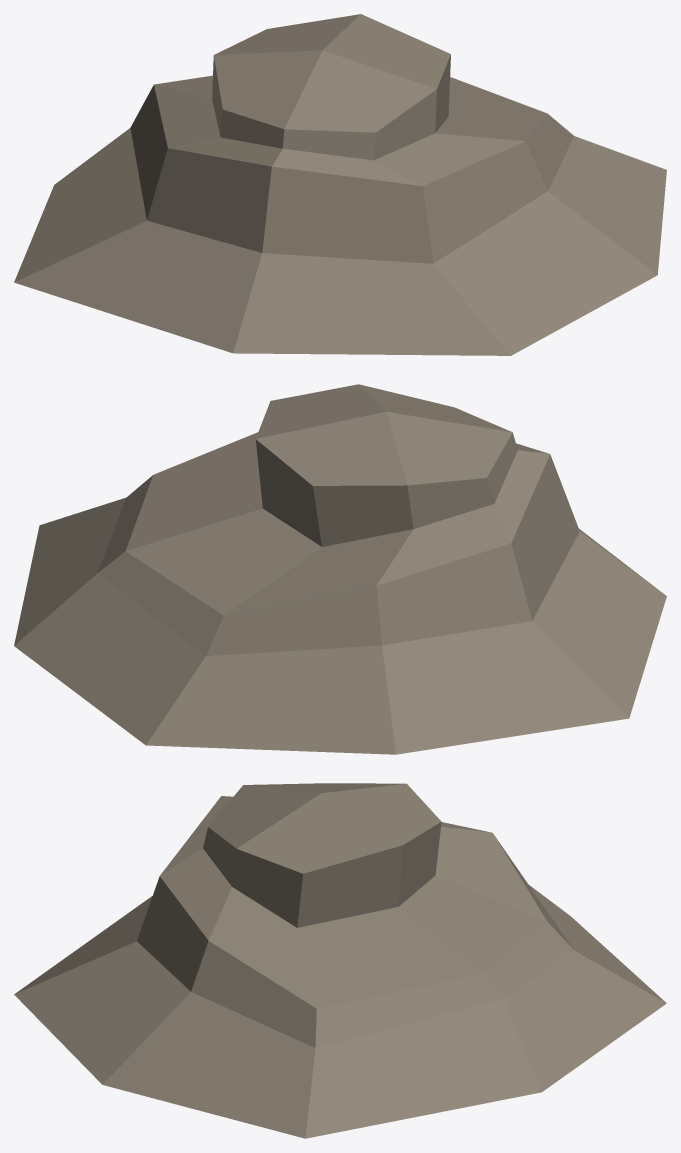
The model's file is mossStoneB-compressed.glb.
The picture shows the model from 3 angles, top to bottom: view 1: azimuth 30°, elevation 25°; view 2: azimuth 150°, elevation 25°; view 3: azimuth 270°, elevation 25°; orthographic projection. The views are drawn at different scales.
Visible parts, largest first — view 1: mossStoneB; view 2: mossStoneB; view 3: mossStoneB.
Part boxes in pixels (bbox=[...]): mossStoneB: bbox=[14, 14, 666, 355]; mossStoneB: bbox=[14, 384, 666, 754]; mossStoneB: bbox=[14, 783, 666, 1138].
Size of the model in its own units: 2.59 by 0.8003 by 2.52.
